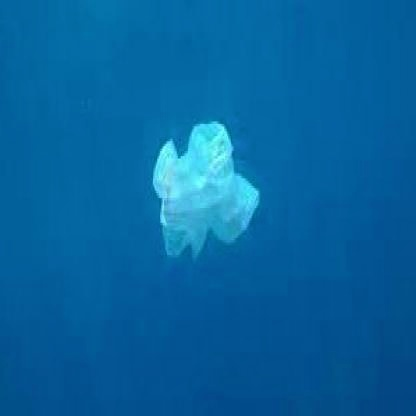pbag: (152, 119, 262, 262)
